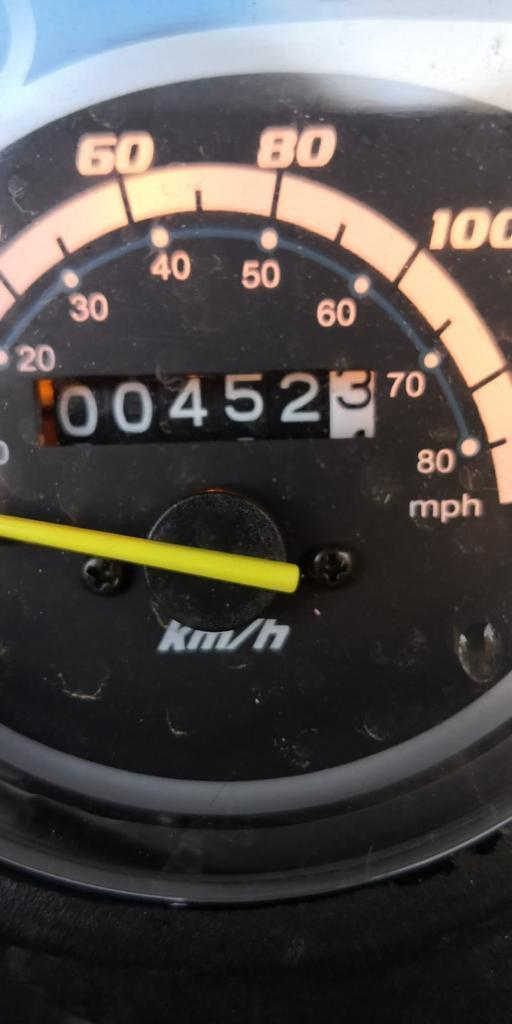0: (109, 378, 154, 434), (56, 382, 98, 438)
2: (276, 370, 324, 425)
3: (334, 368, 374, 410)
4: (164, 374, 210, 429)
5: (220, 373, 266, 424)
odometer: (26, 365, 387, 451)
